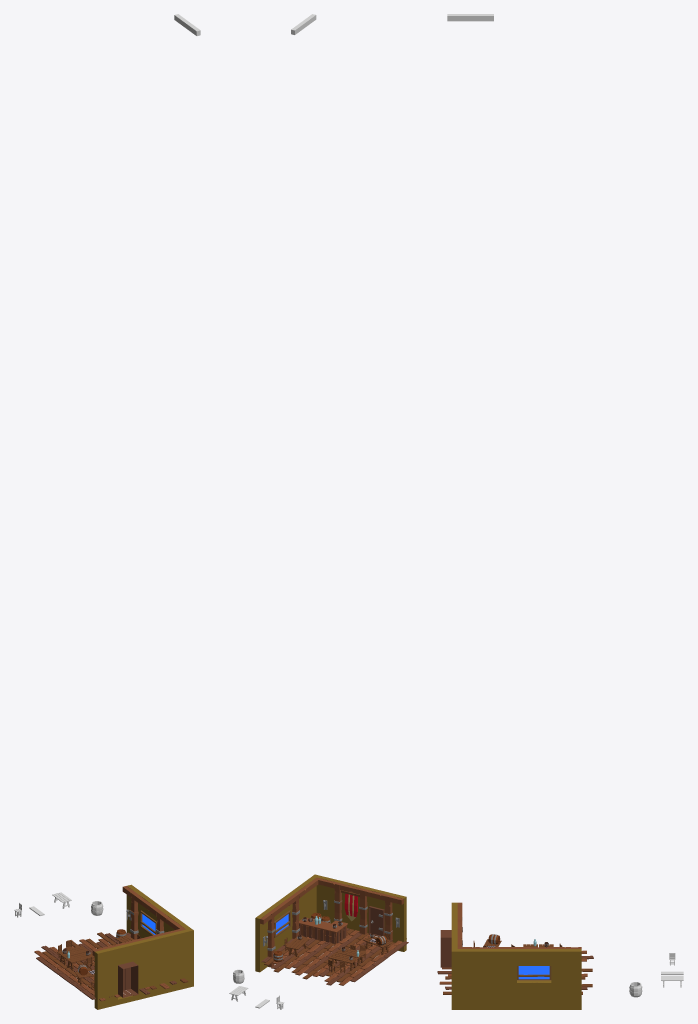
The model's file is Tavern.fbx.
The picture shows the model from 3 angles, left to right: view 1: azimuth 30°, elevation 25°; view 2: azimuth 150°, elevation 25°; view 3: azimuth 270°, elevation 25°; orthographic projection. The views are drawn at different scales.
Visible parts, largest first — view 1: WALL_B, WALL_A, DOOR, WALL_SUPPORT.001; view 2: WALL_B, WALL_A, WALL_SUPPORT.000, WALL_SUPPORT.001, BAR, DOOR; view 3: WALL_A, WALL_B.
Boxes of the visible parts, x1=… form: WALL_B: x1=94, y1=928, x2=193, y2=1009; WALL_A: x1=126, y1=884, x2=190, y2=938; DOOR: x1=118, y1=961, x2=138, y2=997; WALL_SUPPORT.001: x1=130, y1=892, x2=164, y2=939; WALL_B: x1=312, y1=874, x2=406, y2=951; WALL_A: x1=255, y1=876, x2=316, y2=972; WALL_SUPPORT.000: x1=334, y1=882, x2=392, y2=941; WALL_SUPPORT.001: x1=267, y1=893, x2=299, y2=967; BAR: x1=299, y1=917, x2=347, y2=943; DOOR: x1=368, y1=906, x2=384, y2=936; WALL_A: x1=457, y1=949, x2=581, y2=1009; WALL_B: x1=451, y1=902, x2=457, y2=1009.
Bounding box in the file's own units: 11.25 × 98.29 × 22.
